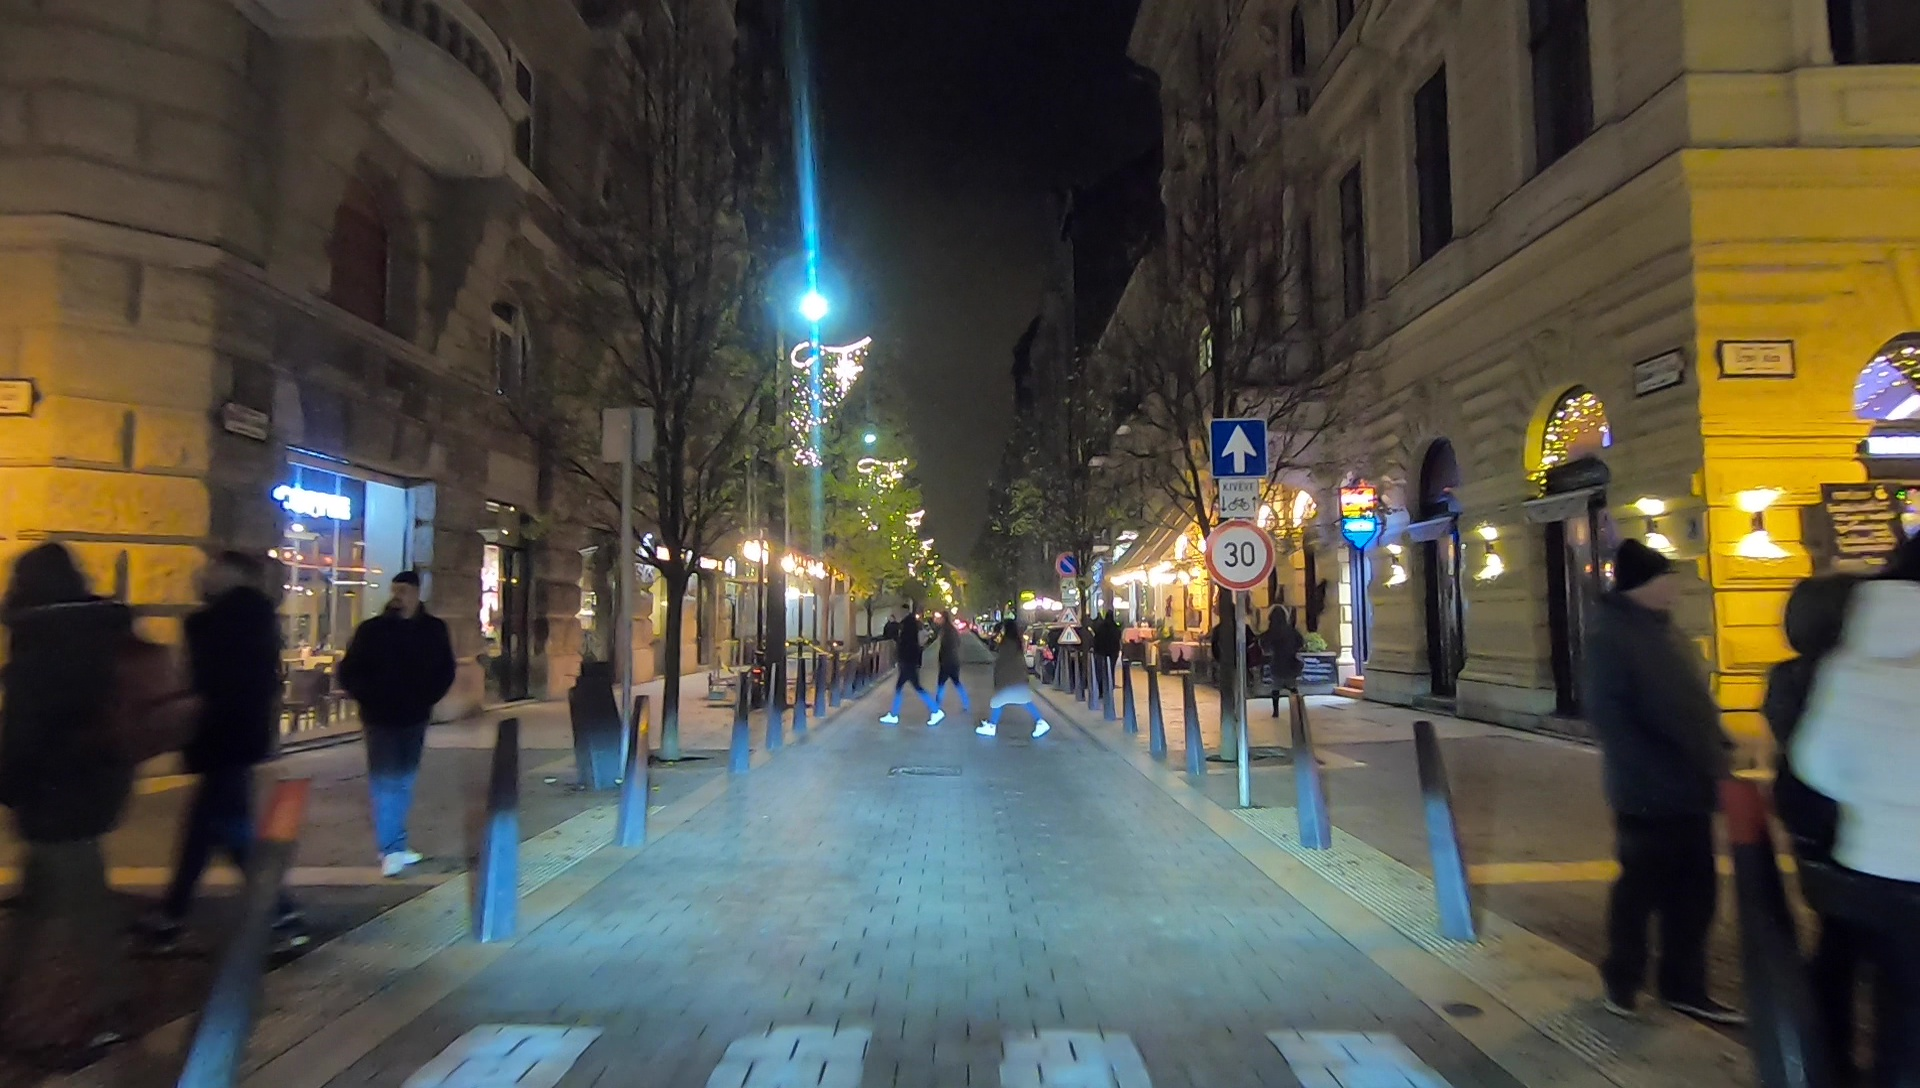person: (8, 539, 176, 967), (1588, 539, 1732, 1021), (1817, 537, 1920, 1088), (1773, 558, 1876, 1087), (184, 558, 293, 937), (347, 574, 441, 874), (982, 615, 1051, 747), (876, 608, 932, 730), (928, 597, 976, 719), (1214, 613, 1256, 711), (1265, 608, 1297, 713), (1093, 613, 1117, 682)
